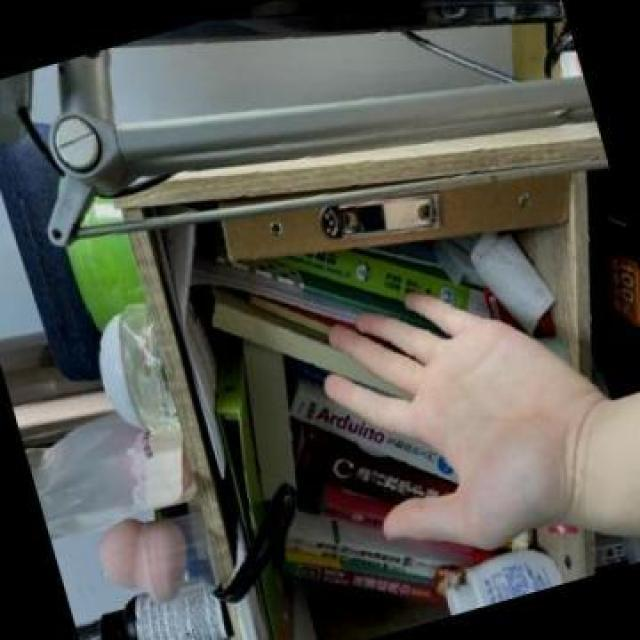without_gloves: (275, 232, 640, 609)
